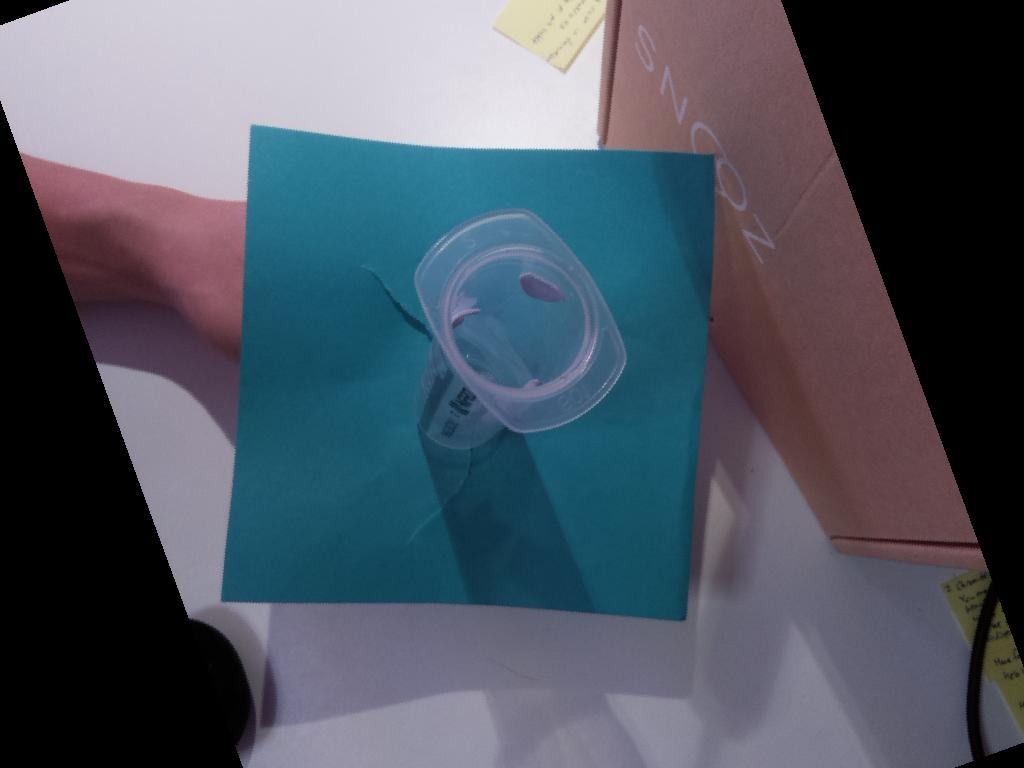dirty: (415, 207, 627, 432)
